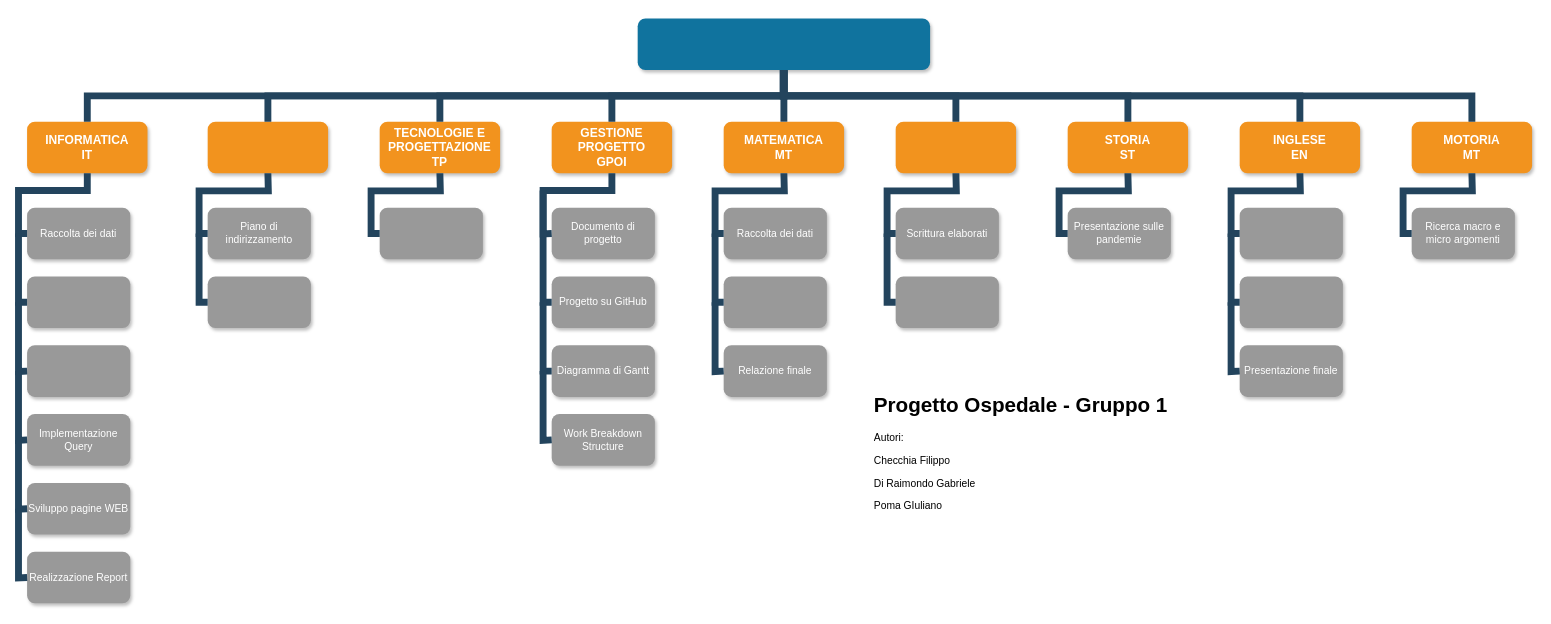
This 1551x624 diagram has some shape labels left out. Here are the shapes that lost their labels. From the top down, the centre of each, then its label:
(784,45): Progetto Ospedale
(268,148): SISTEMI E RETI SR
(956,148): ITALIANO IT
(432,234): Progetto in C# coda pronto soccorso
(1292,234): Status Report 1
(79,303): Modello E/R
(260,303): Progetto in Cisco Packet Tracer
(776,303): Implementazione grafici e tabelle
(948,303): Raccolta elaborati
(1292,303): Status Report 2
(79,371): Modello Logico
